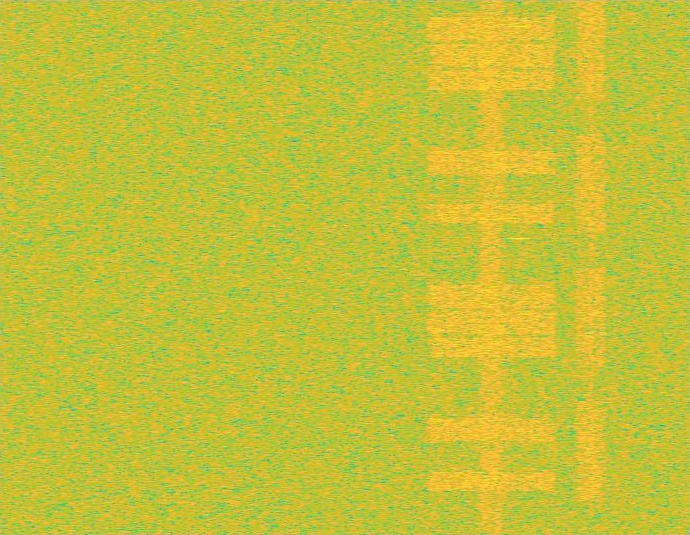5G: (574, 0, 608, 534)
DSSS: (476, 0, 507, 534), (589, 0, 593, 534)
LTE: (422, 0, 560, 534)
Radar: (512, 0, 525, 534)
